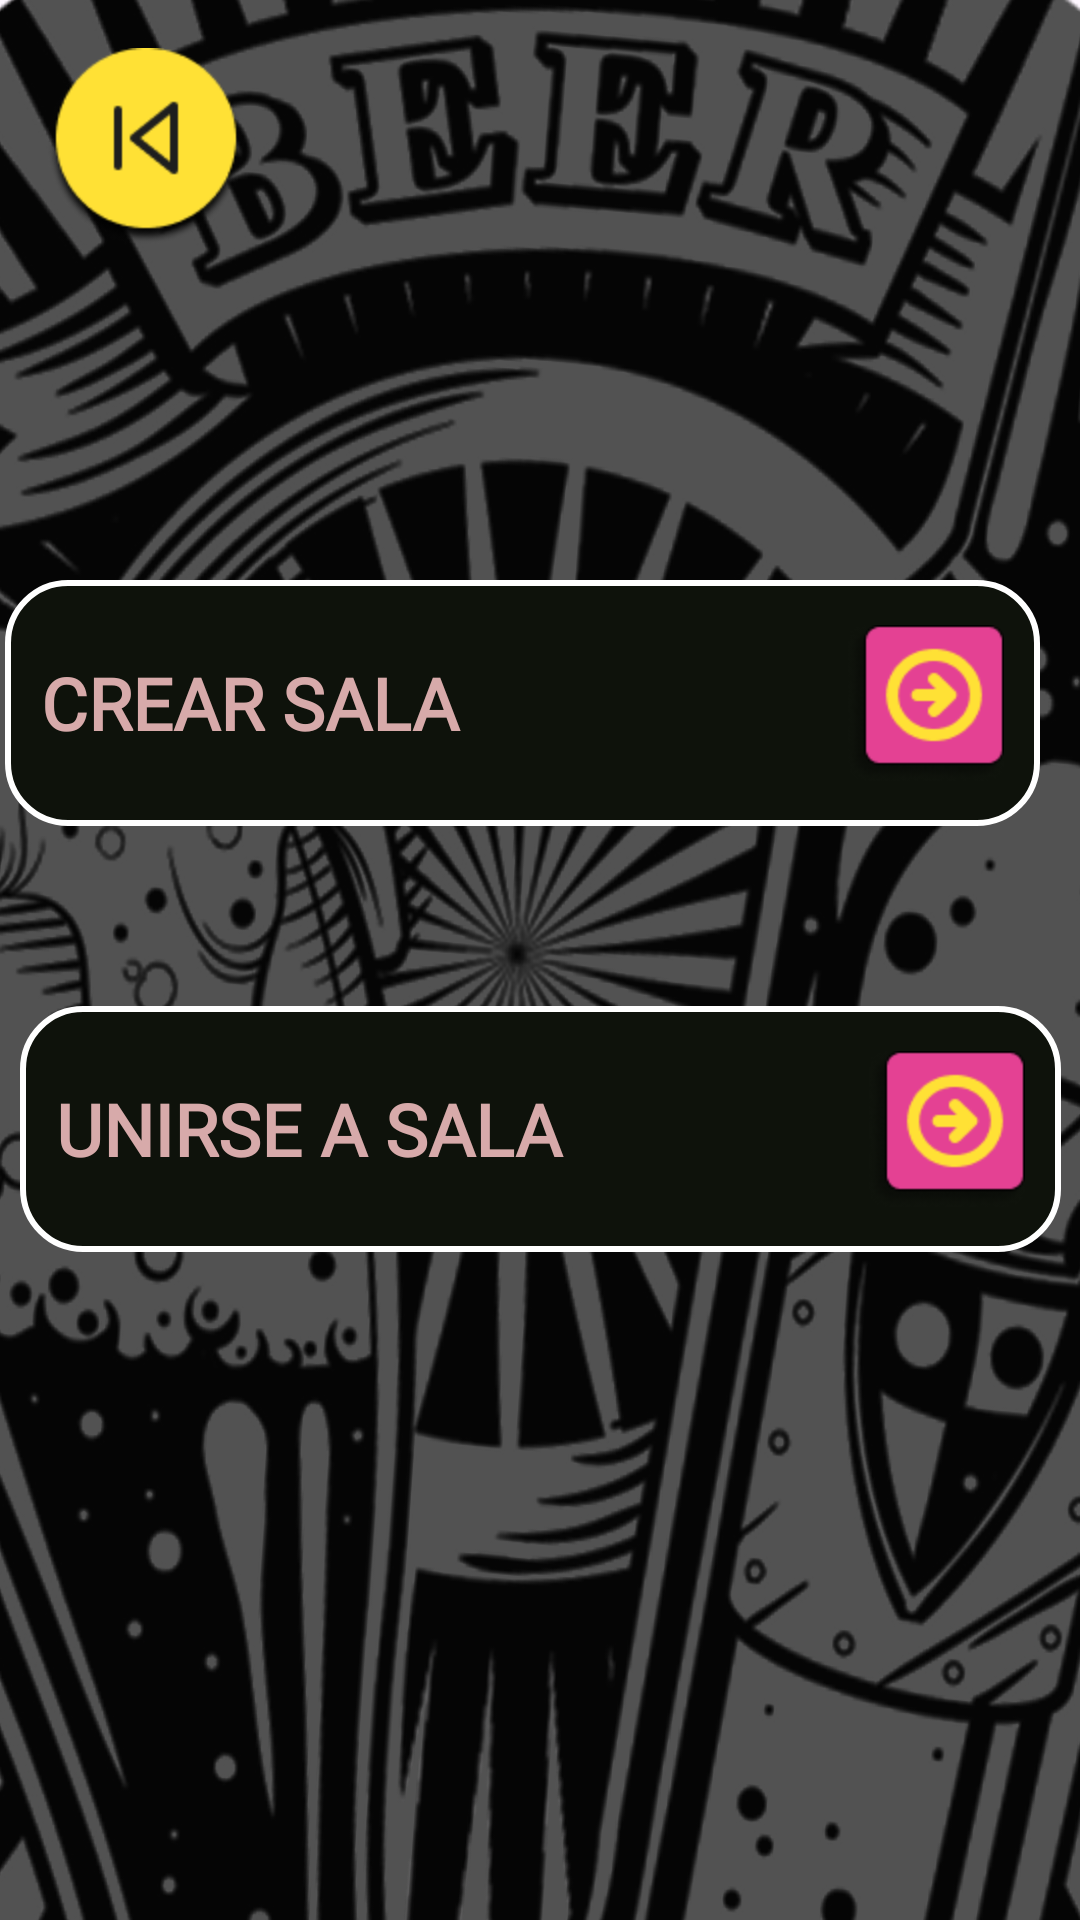

Where to tap for icons on this 1080px x 1920px app screen, as (x=x, y=y):
Botón de retroceso: (x=146, y=146)
next: (x=934, y=695), (x=955, y=1121)
